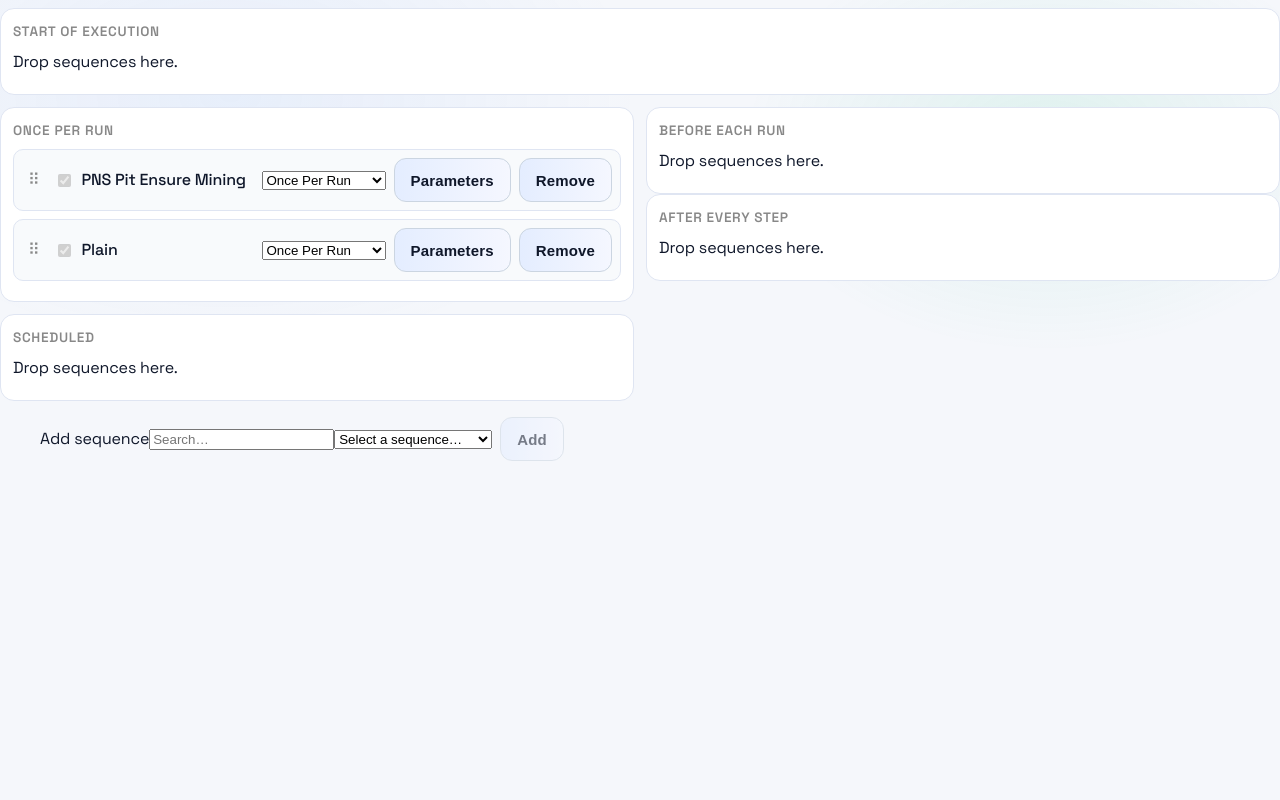
Test: QueueSchedulingAreas per-entry parameters › shows the referenced sequence's declarations, which is what used to never arrive
Click the button with aria-label "Parameters for PNS Pit Ensure Mining": (452, 180) left=394, top=158, right=511, bottom=202
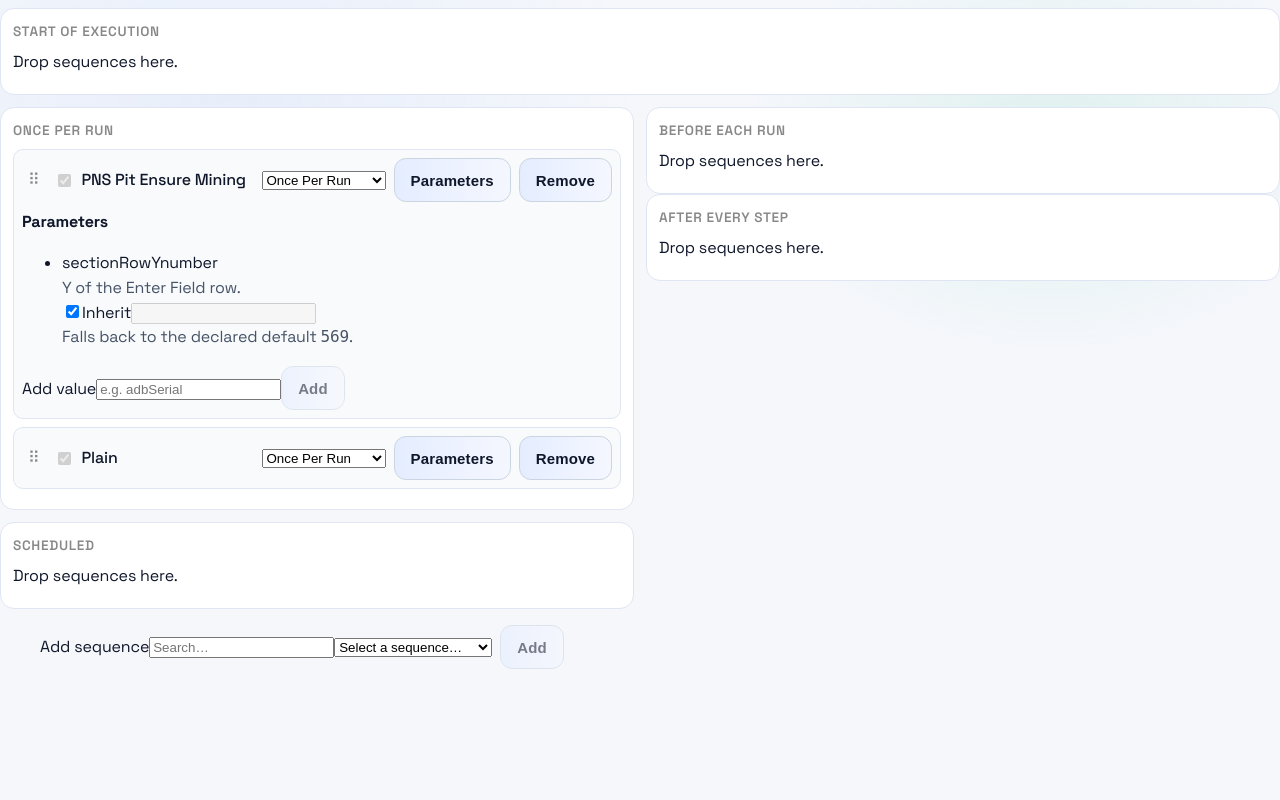
Result: the text "sectionRowY" is shown at left=62, top=252, right=160, bottom=273
